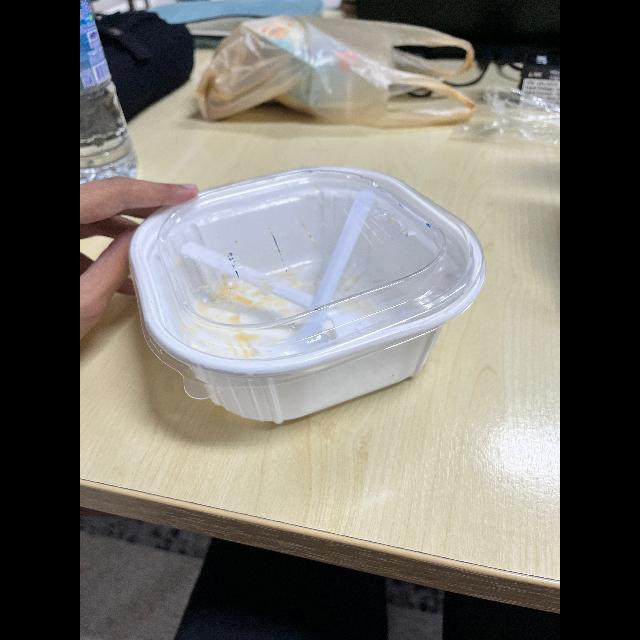plastic_box: (128, 154, 492, 426)
